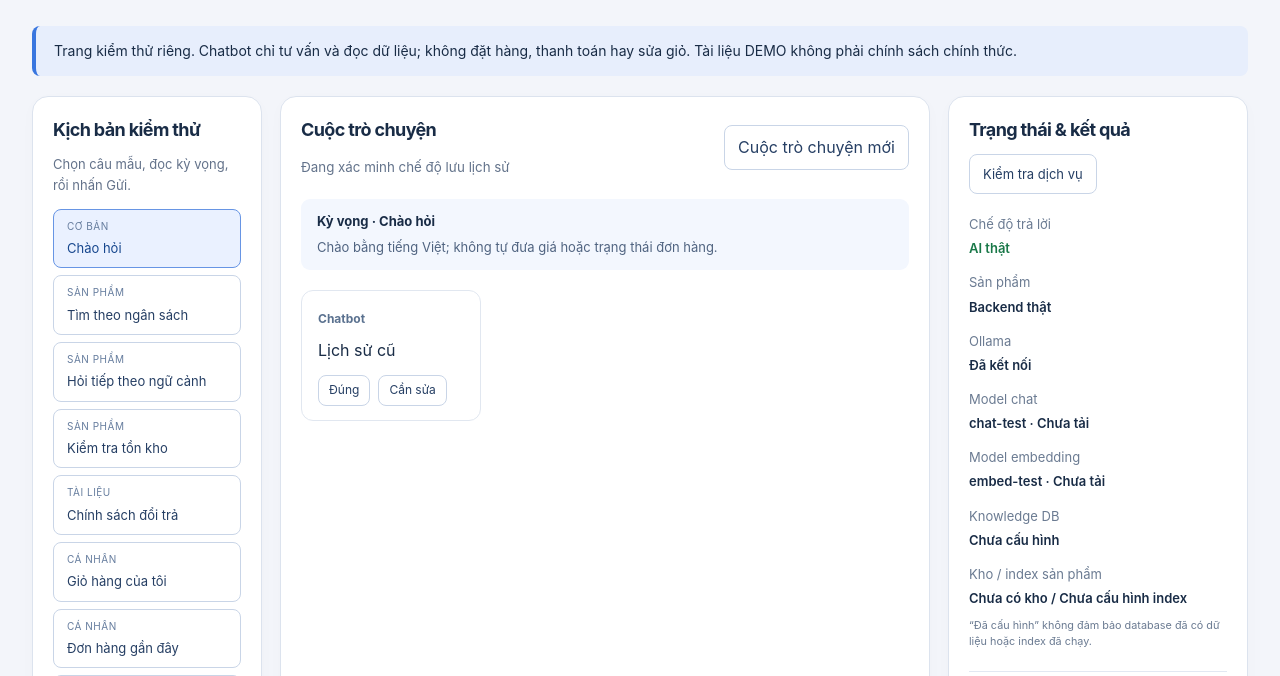
Test: Chatbot lab › starts an independent session and restores history text
This screenshot has width=1280, height=676.
(page scrolled)
Expected: the text "Lịch sử cũ" is shown, [318,340,396,360]
Click the button "Cuộc trò chuyện mới" at x=817, y=148, box [724,126,909,170]
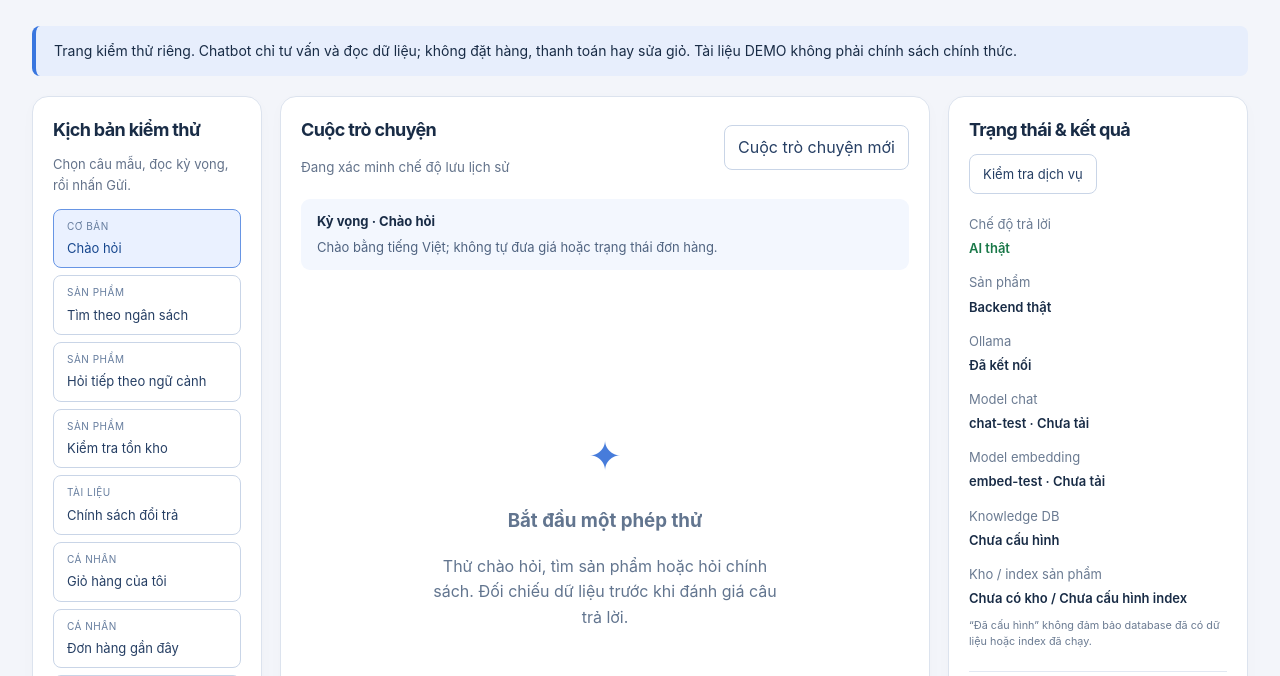
Expected: the text "Lịch sử cũ" is gone
